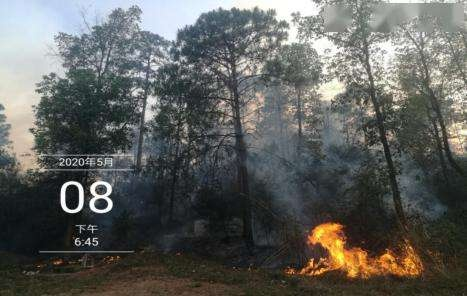fire: (285, 221, 428, 280)
